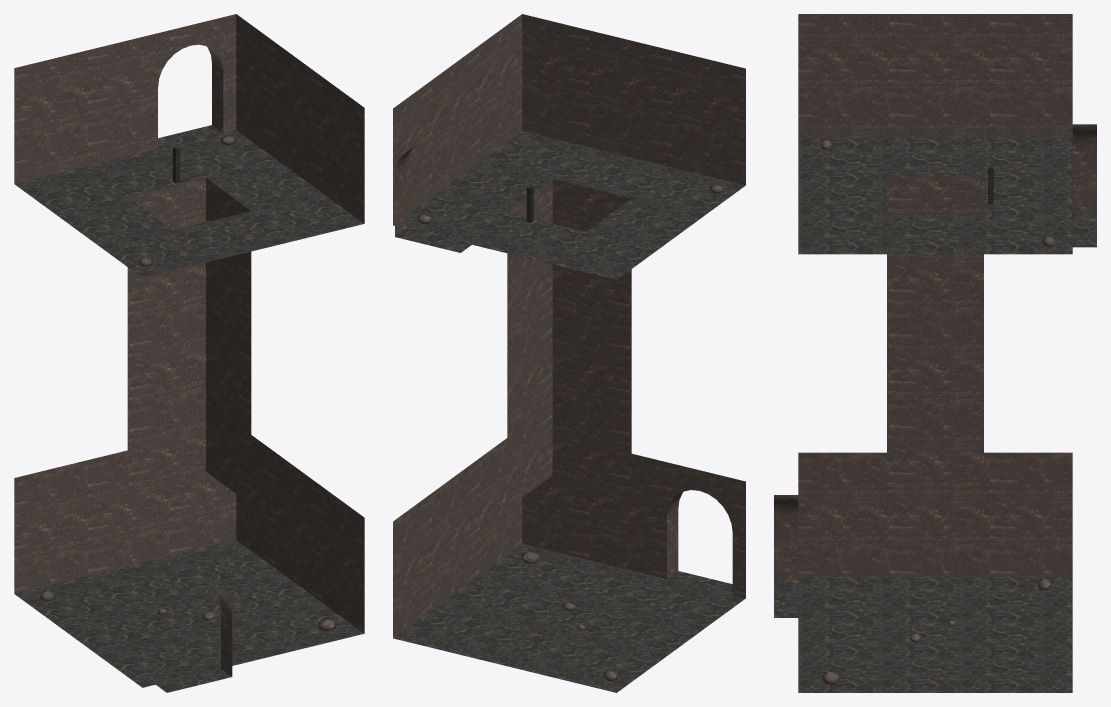
File: pit.8d515977.gltf
The picture shows the model from 3 angles, left to right: view 1: azimuth 30°, elevation 25°; view 2: azimuth 150°, elevation 25°; view 3: azimuth 270°, elevation 25°; orthographic projection. The views are drawn at different scales.
Parts seen in each view (by area): view 1: pit-mesh; view 2: pit-mesh; view 3: pit-mesh.
Part boxes in pixels (x1=…): pit-mesh: x1=14, y1=14, x2=364, y2=692; pit-mesh: x1=393, y1=14, x2=745, y2=692; pit-mesh: x1=774, y1=14, x2=1096, y2=692.
Size of the model in its own units: 6.8 by 15.48 by 8.
3 materials, 3 textured.
